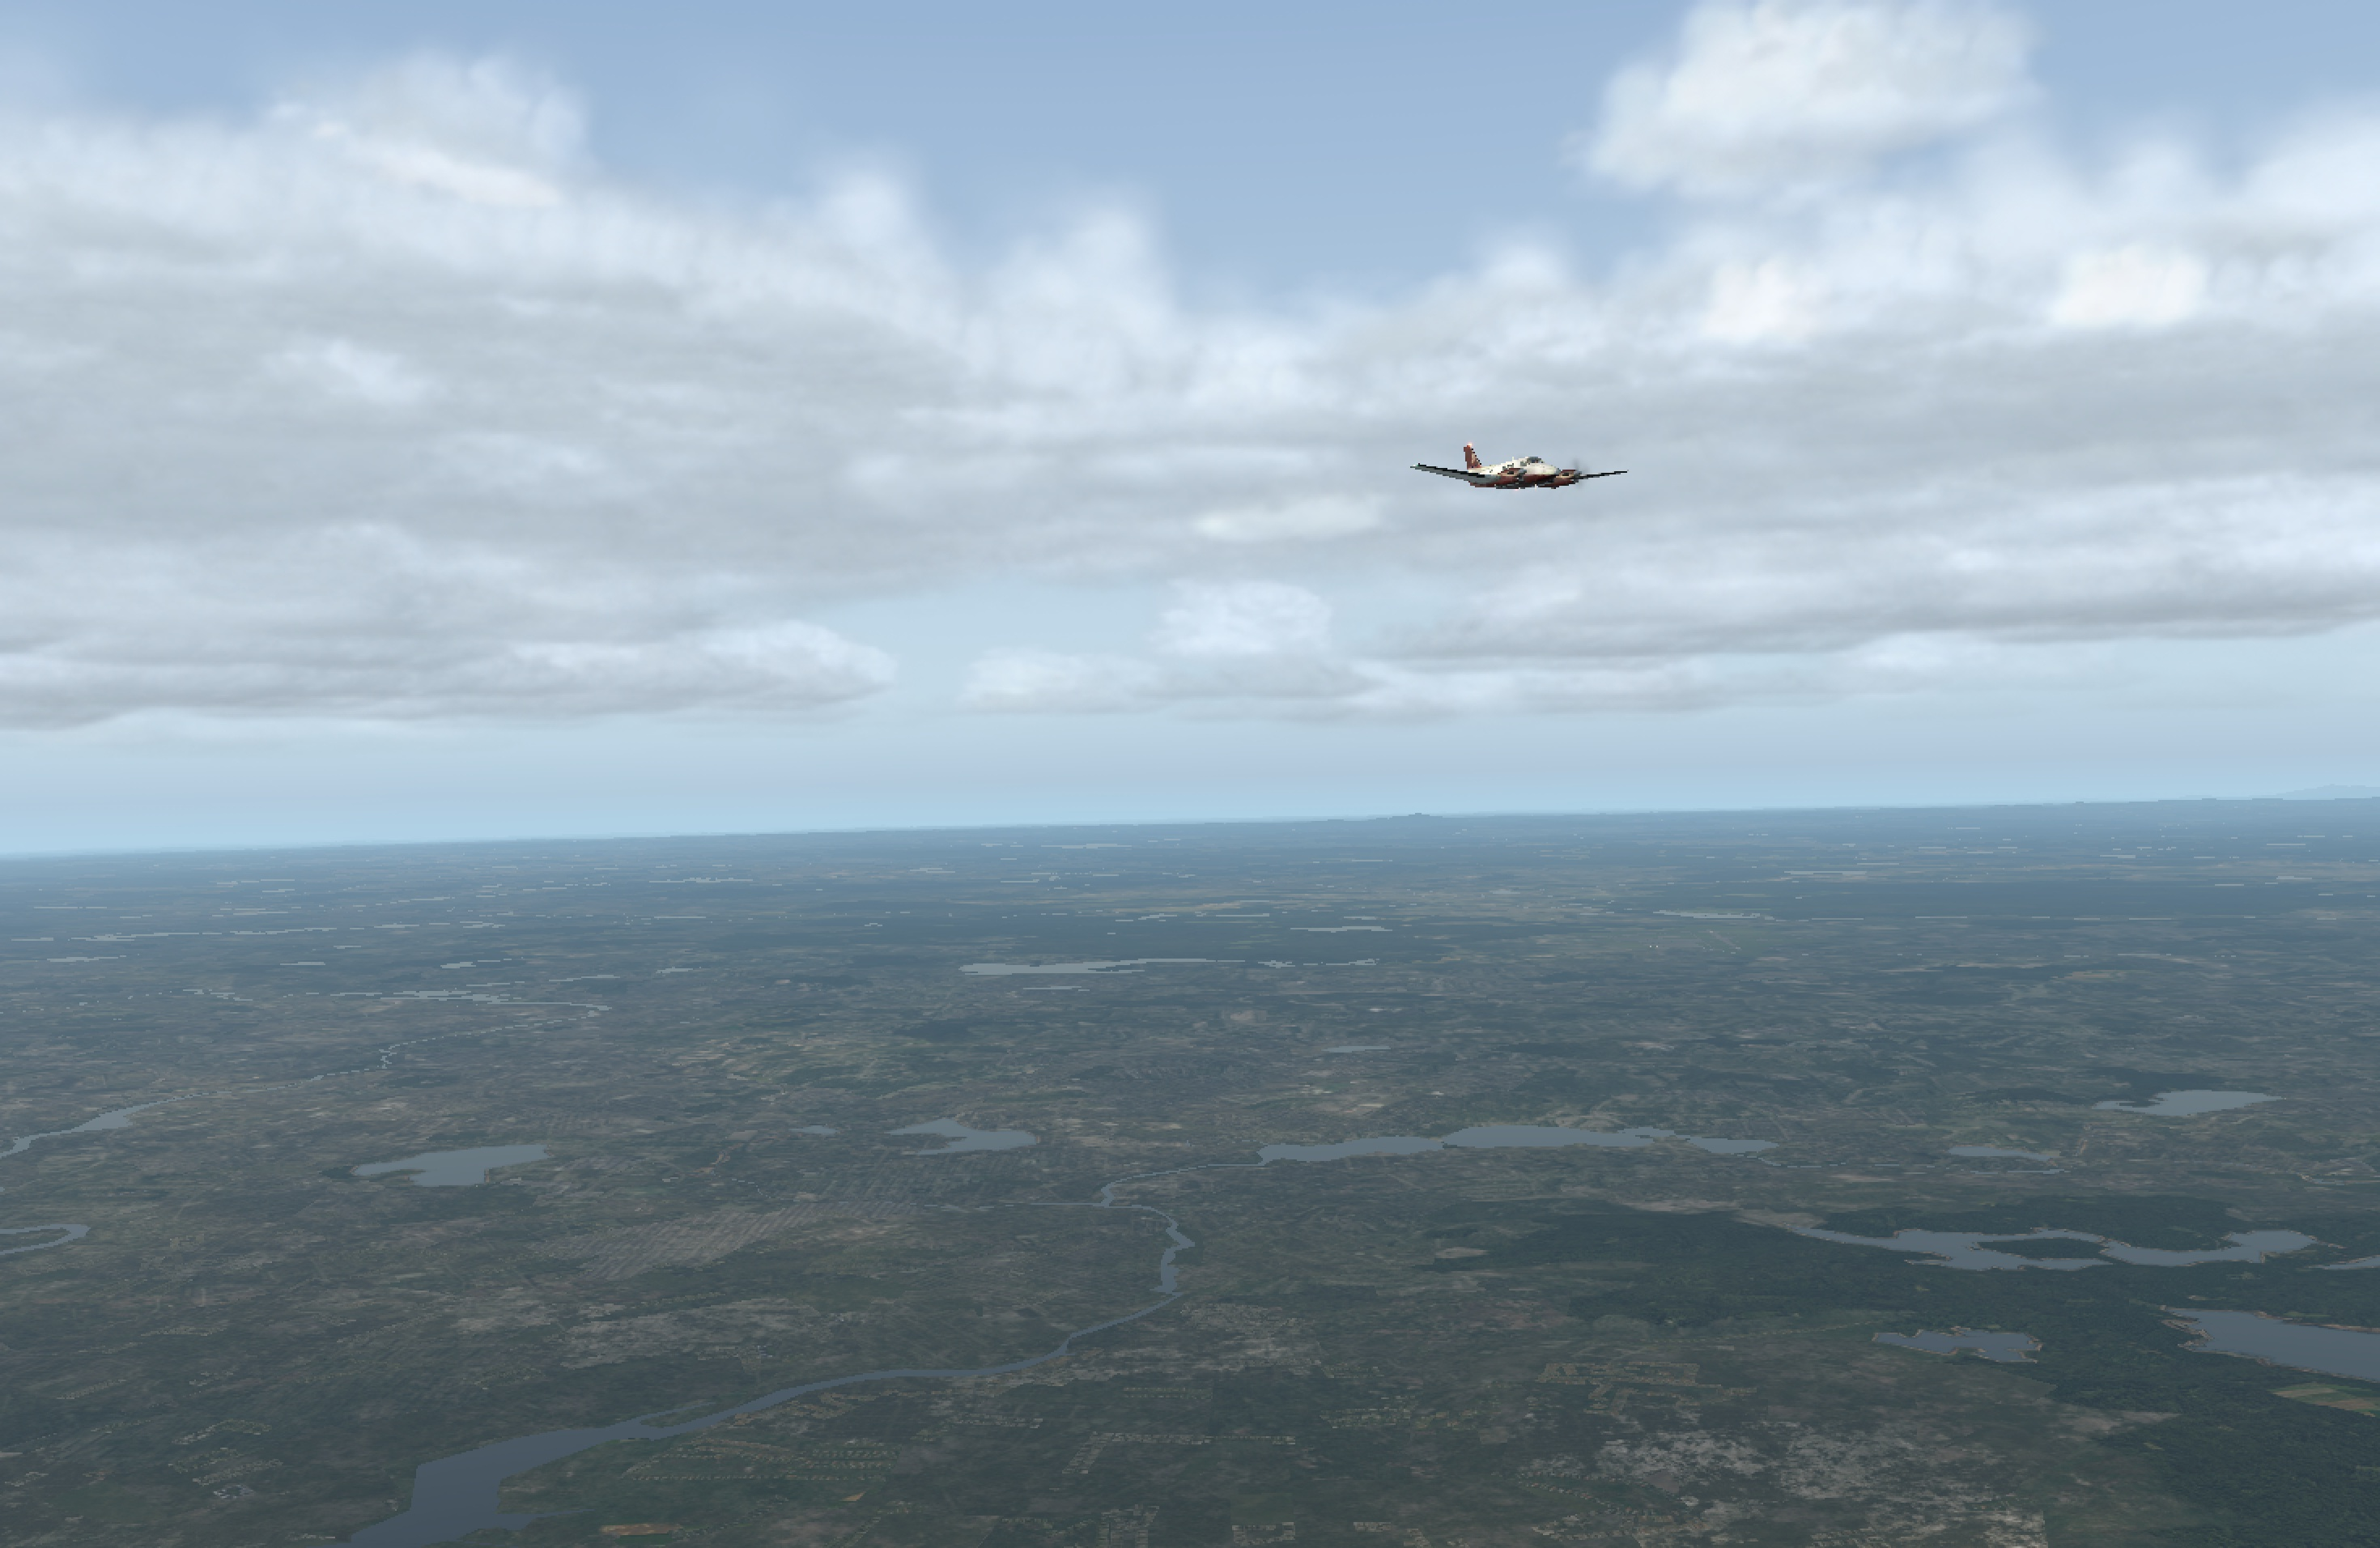aircraft: (1403, 437, 1651, 531)
